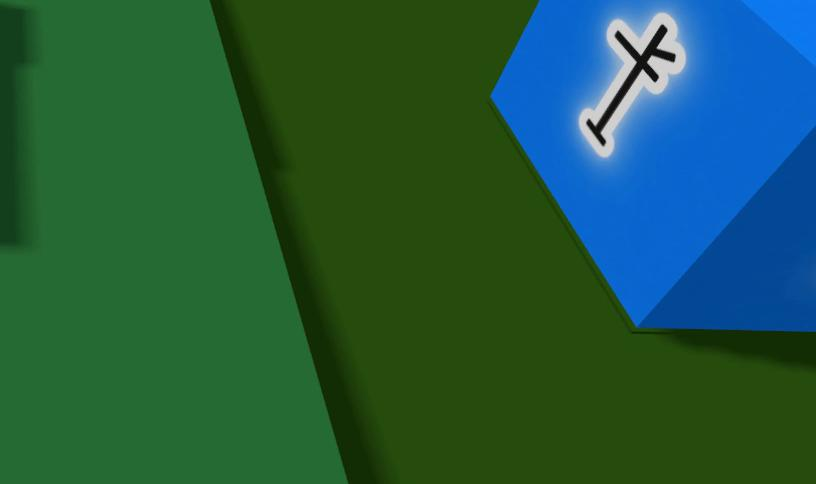KFS_REAL: (487, 0, 814, 329), (578, 15, 684, 158)
